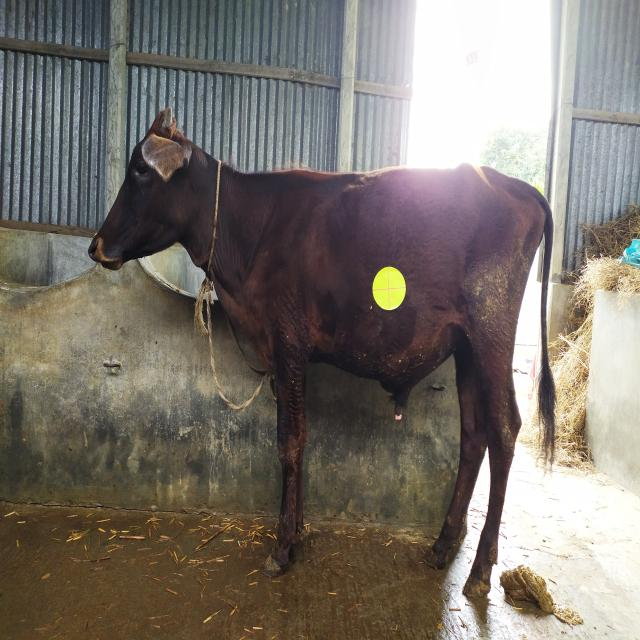badan_sapi: (269, 167, 544, 377)
sapi: (86, 99, 580, 619)
